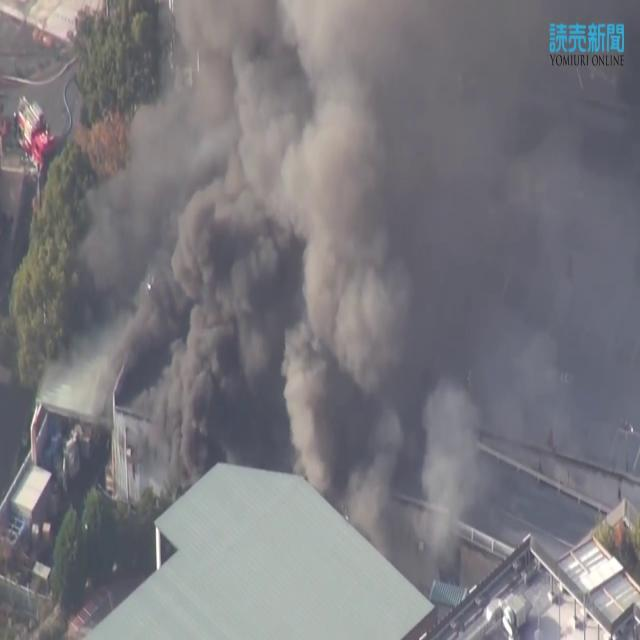Smoke: (68, 0, 638, 562), (283, 0, 640, 569)
